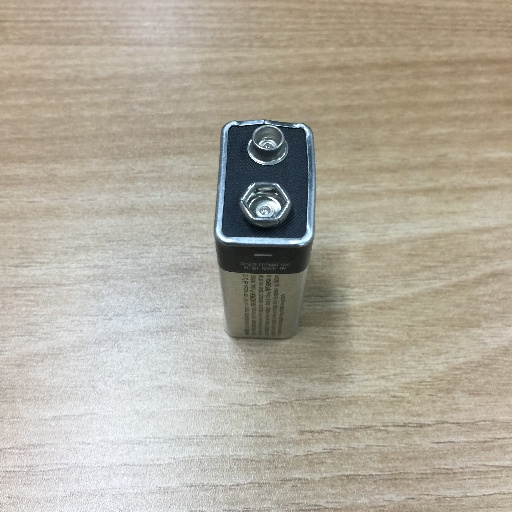Battery_3: (203, 103, 339, 352)
